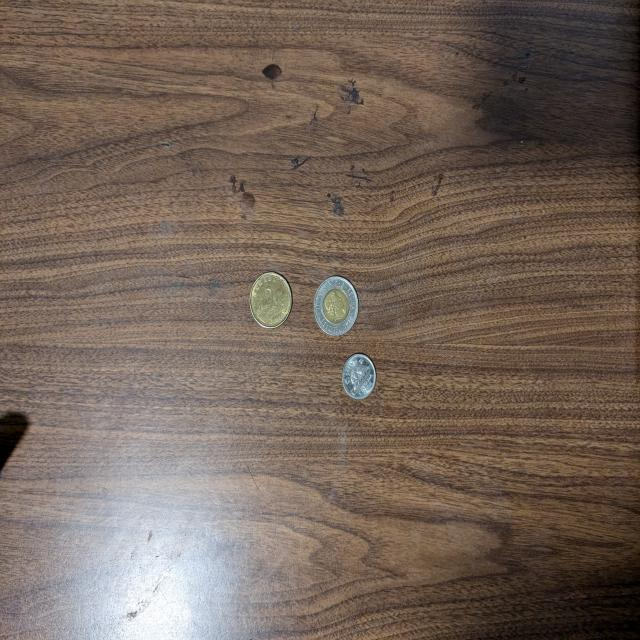loonie: (249, 272, 292, 330)
nickel: (342, 352, 376, 398)
toonie: (314, 276, 358, 337)
